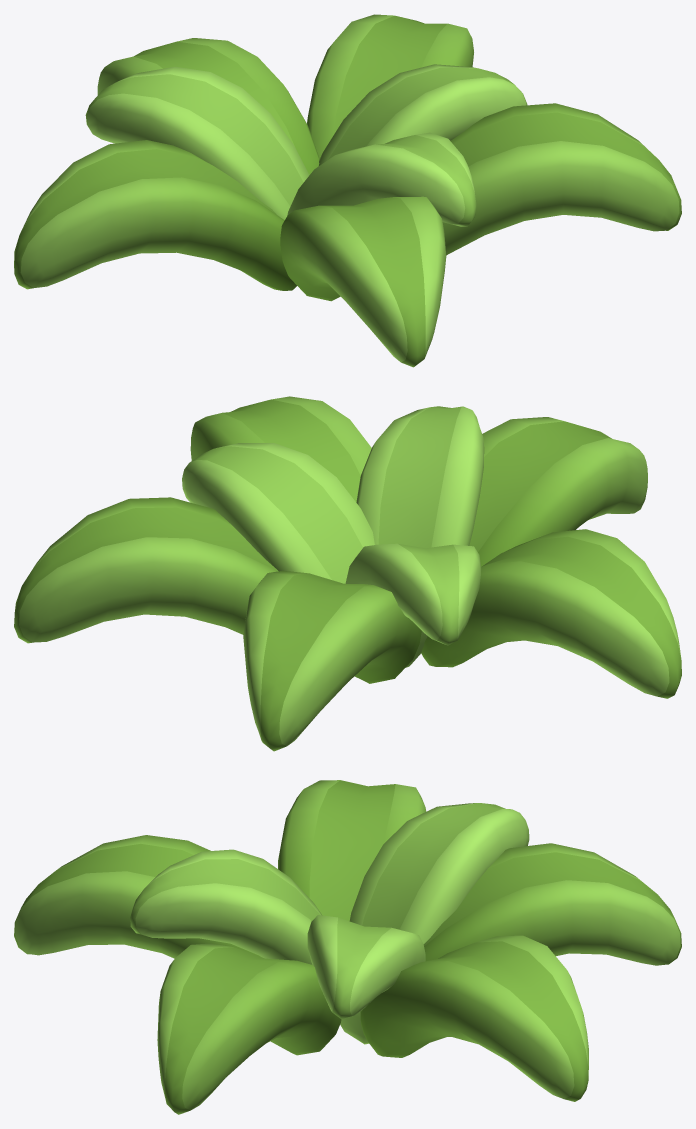
File: grass.fbx
3 renders of one model, top to bottom at view 1: azimuth 30°, elevation 25°; view 2: azimuth 150°, elevation 25°; view 3: azimuth 270°, elevation 25°, orthographic. The views are drawn at different scales.
Visible parts, largest first — view 1: grass; view 2: grass; view 3: grass.
Part boxes in pixels (box(x1,y1,x2,y2)): grass: box(14, 14, 681, 367); grass: box(14, 396, 681, 751); grass: box(14, 780, 681, 1114).
Size of the model in its own units: 100 by 30.71 by 103.
Materials: 1 (1 with a texture image).
